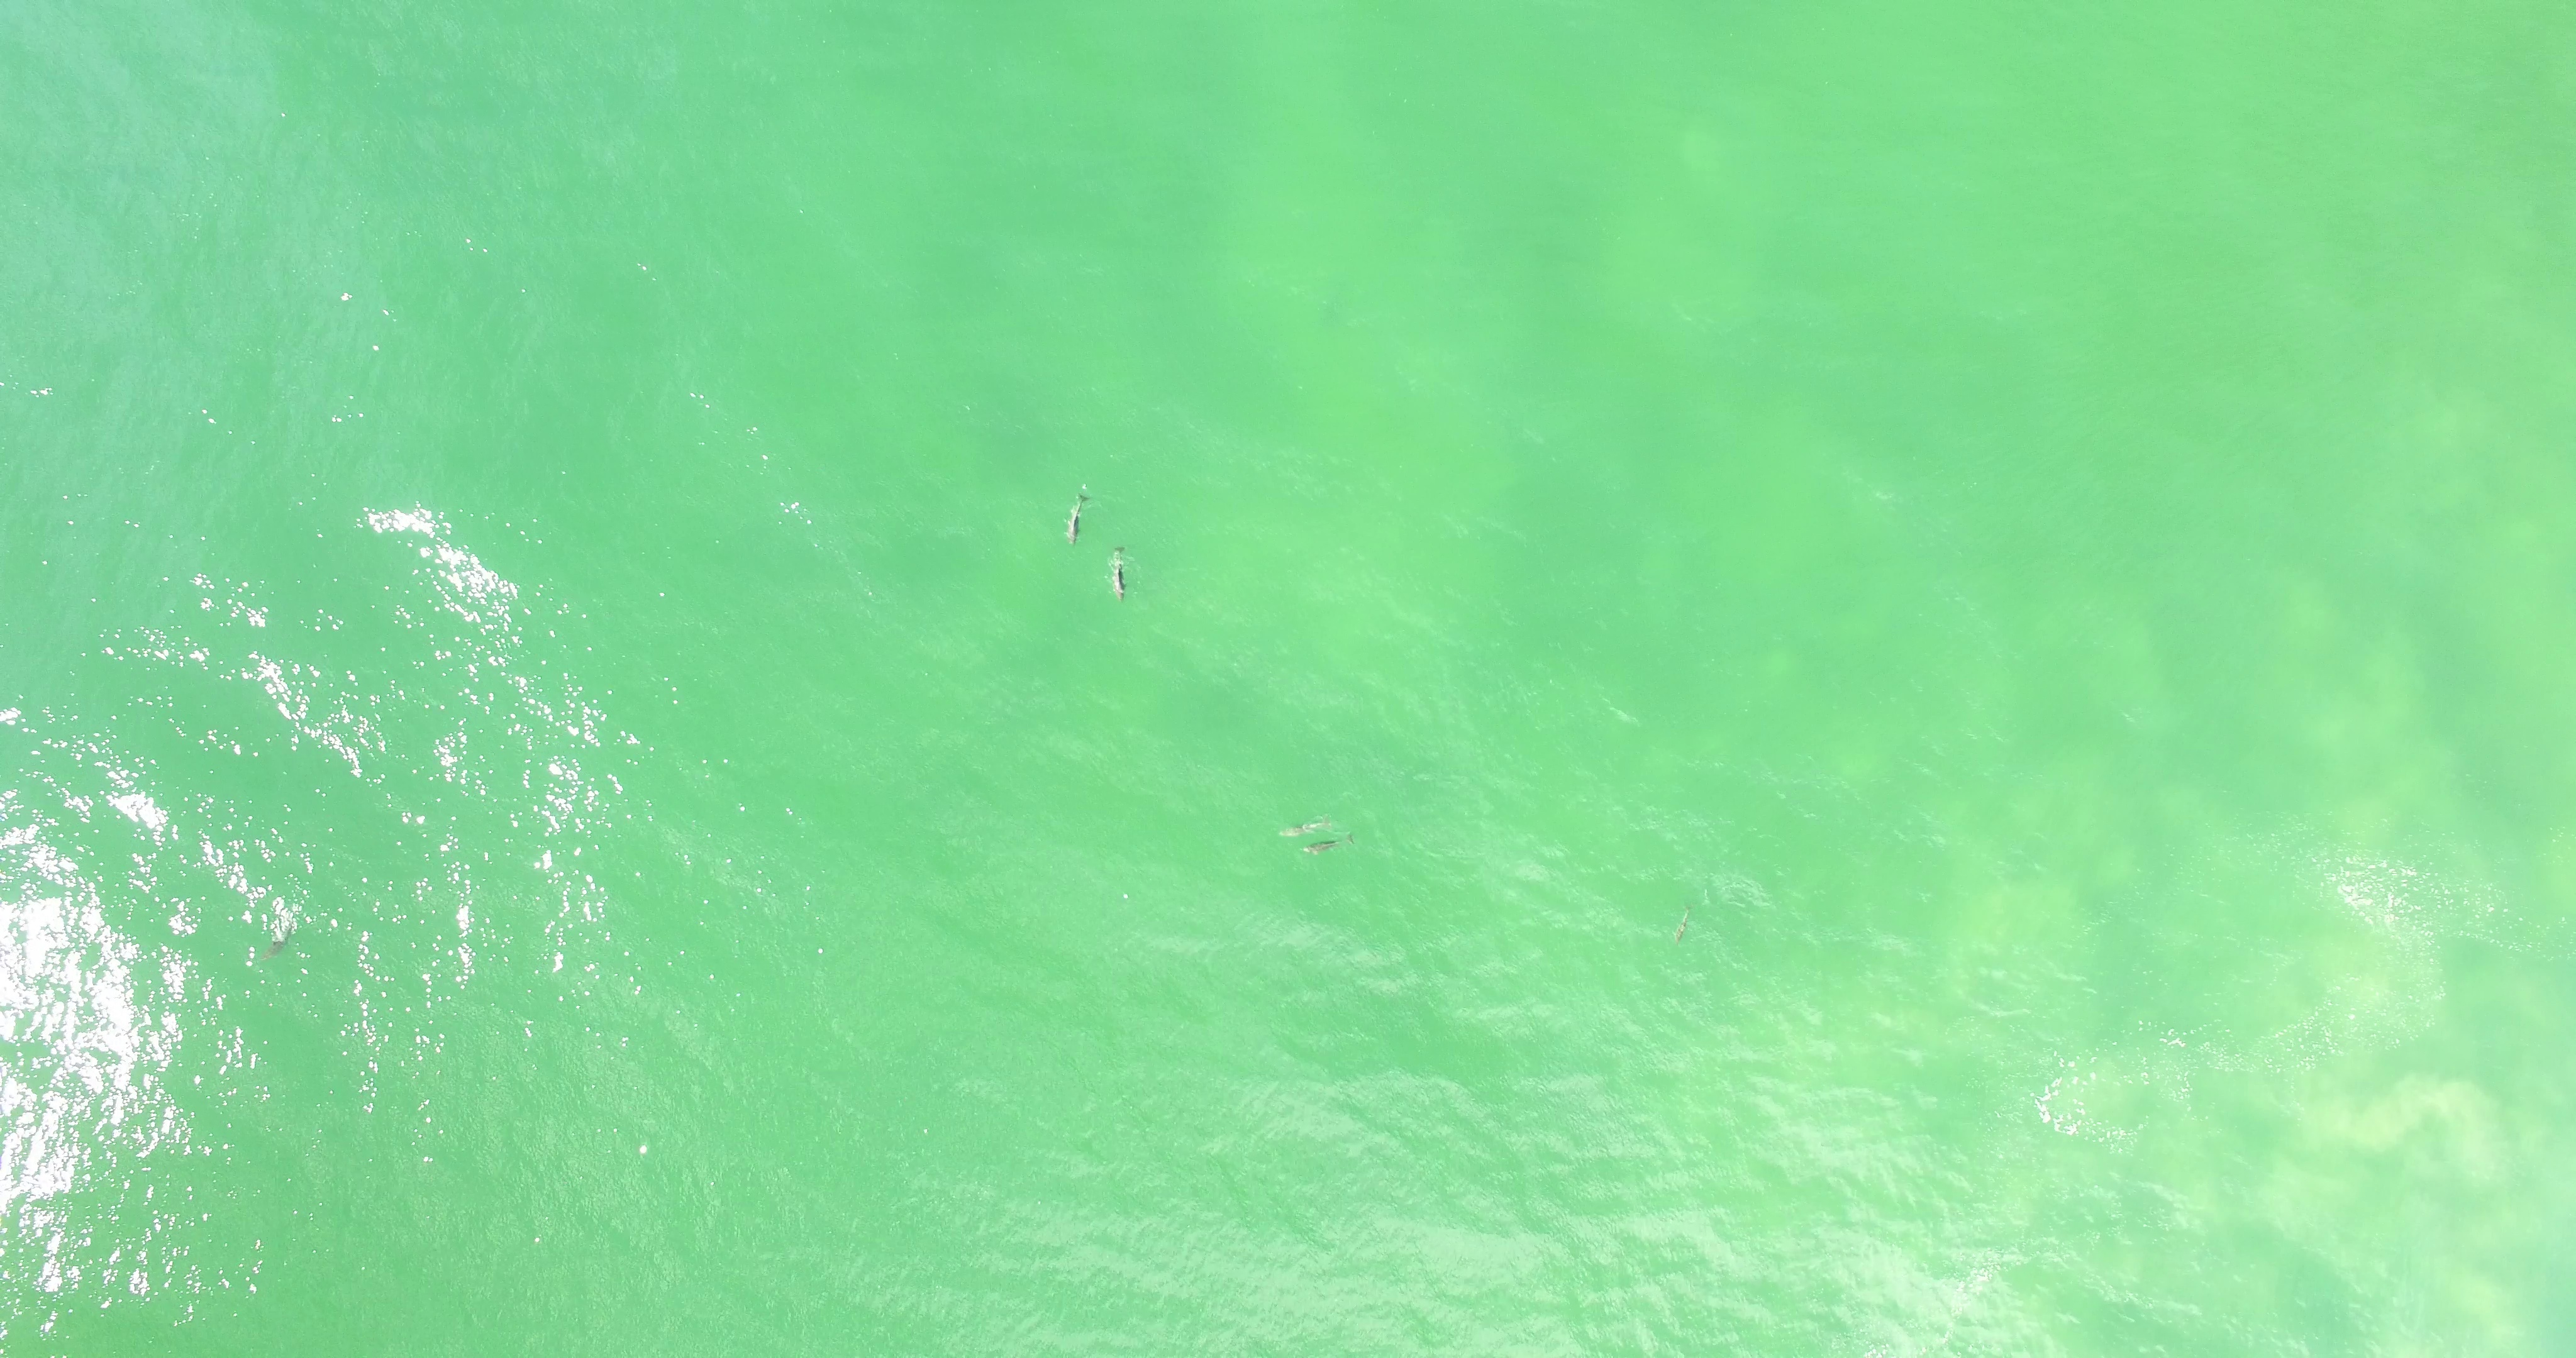dolphin: (259, 918, 298, 964), (1302, 830, 1353, 860), (1063, 489, 1090, 545), (1111, 542, 1133, 598), (1276, 818, 1334, 837)
